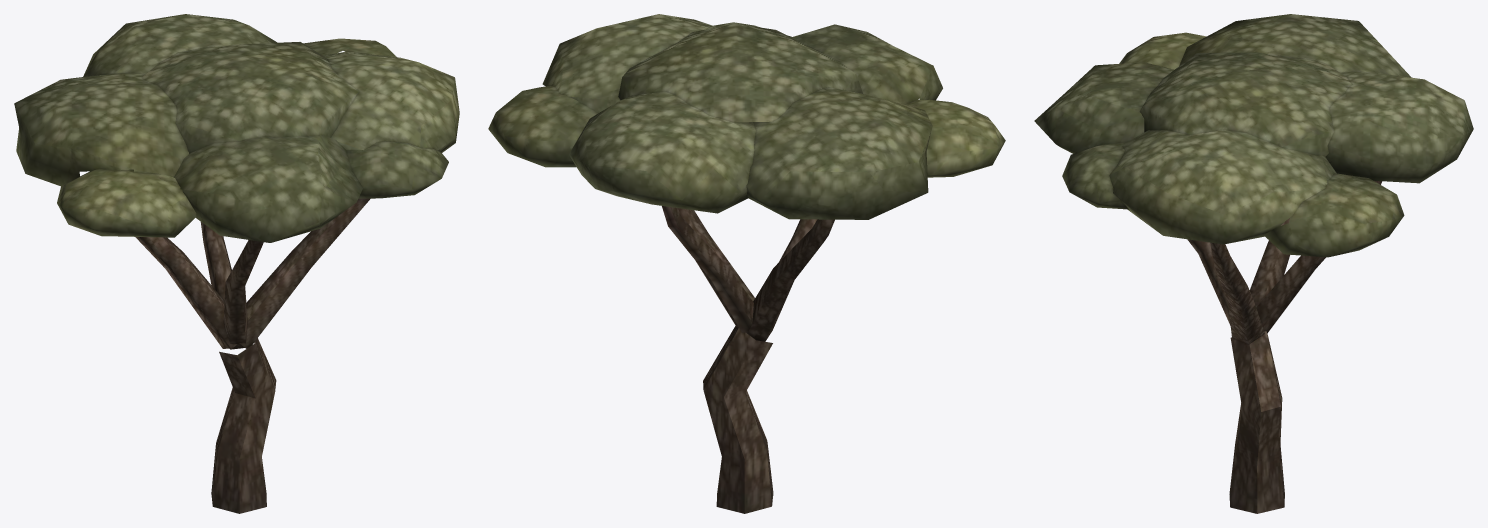
The model's file is acacia.glb.
3 renders of one model, left to right at view 1: azimuth 30°, elevation 25°; view 2: azimuth 150°, elevation 25°; view 3: azimuth 270°, elevation 25°, orthographic. The views are drawn at different scales.
Visible parts, largest first — view 1: root_mesh; view 2: root_mesh; view 3: root_mesh.
Part boxes in pixels (box(x1,y1,x2,y2)): root_mesh: box(14, 14, 459, 513); root_mesh: box(488, 14, 1005, 513); root_mesh: box(1034, 14, 1473, 513).
Bounding box in the file's own units: 1.14 × 1.13 × 1.05.
Materials: 1 (1 with a texture image).
